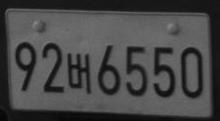0: (179, 45, 203, 98)
2: (41, 41, 64, 93)
5: (152, 46, 176, 98), (125, 45, 148, 97)
6: (96, 43, 120, 95)
9: (14, 40, 36, 92)
버: (66, 53, 92, 94)
